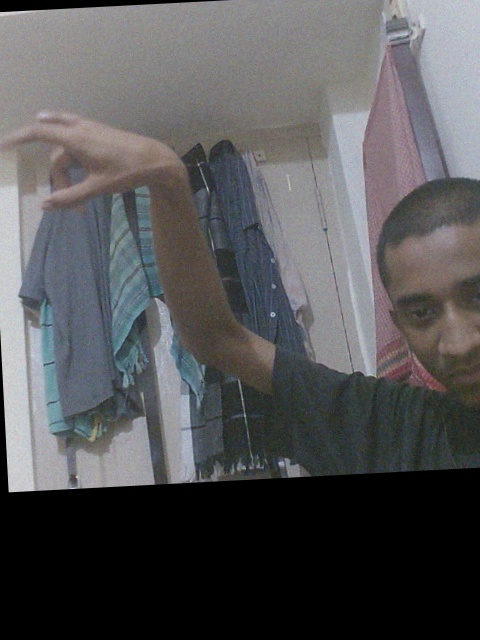hand: (2, 106, 190, 215)
